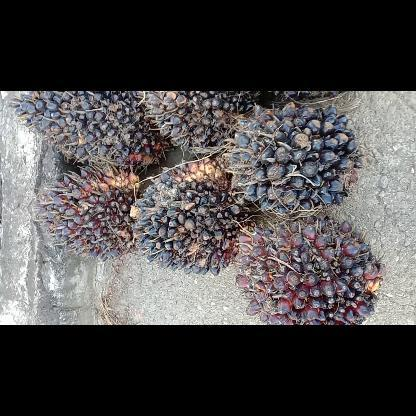TBS mentah: (223, 100, 366, 223), (233, 214, 387, 324), (128, 156, 262, 278), (4, 91, 178, 171), (32, 161, 146, 262), (130, 90, 272, 154)
